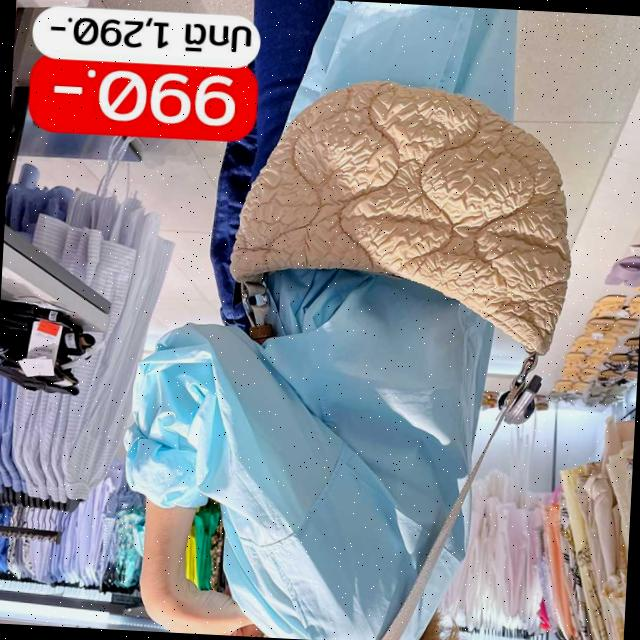Handbag: (211, 79, 584, 354)
